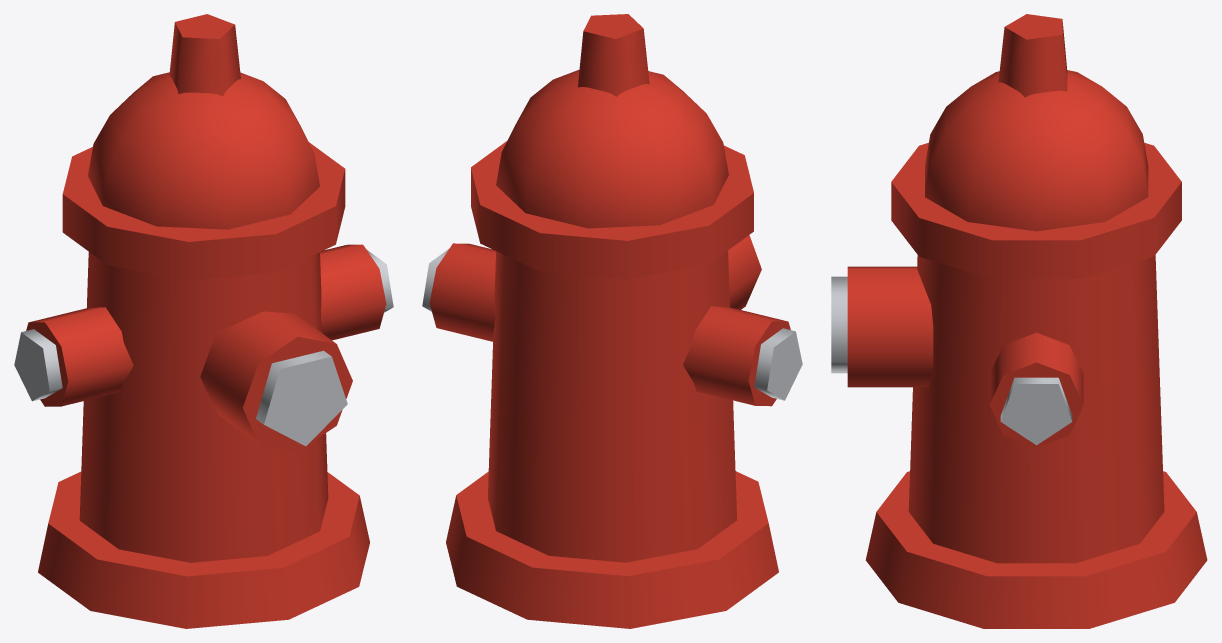
Rendered from fire_hydrant.glb.
3 renders of one model, left to right at view 1: azimuth 30°, elevation 25°; view 2: azimuth 150°, elevation 25°; view 3: azimuth 270°, elevation 25°, orthographic.
Parts seen in each view (by area): view 1: fire_hydrant; view 2: fire_hydrant; view 3: fire_hydrant.
Part boxes in pixels (left/top/right/bottom): fire_hydrant: left=14, top=14, right=393, bottom=628; fire_hydrant: left=422, top=14, right=802, bottom=628; fire_hydrant: left=831, top=14, right=1207, bottom=628.
Size of the model in its own units: 1.87 by 2.76 by 1.76.
